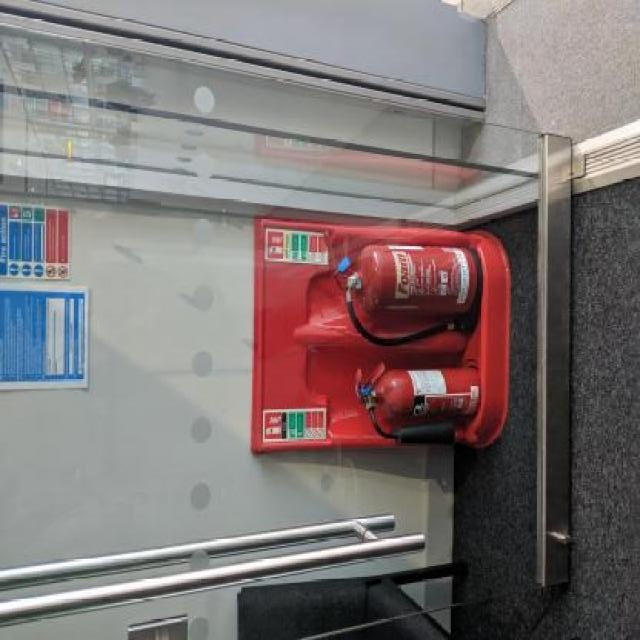fire extinguisher: (326, 236, 483, 347), (358, 362, 480, 441)
